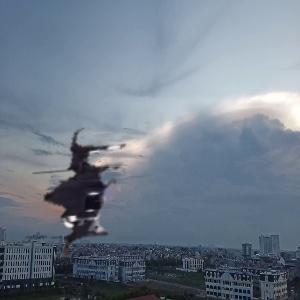drone: (10, 120, 160, 270)
